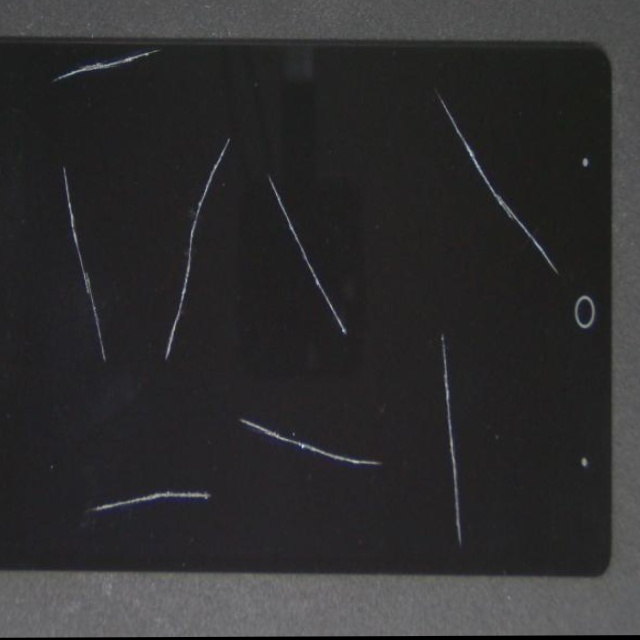scratch: (257, 253, 553, 637), (222, 372, 640, 637), (127, 243, 321, 637), (123, 0, 330, 299), (316, 209, 640, 323), (61, 273, 178, 444)
